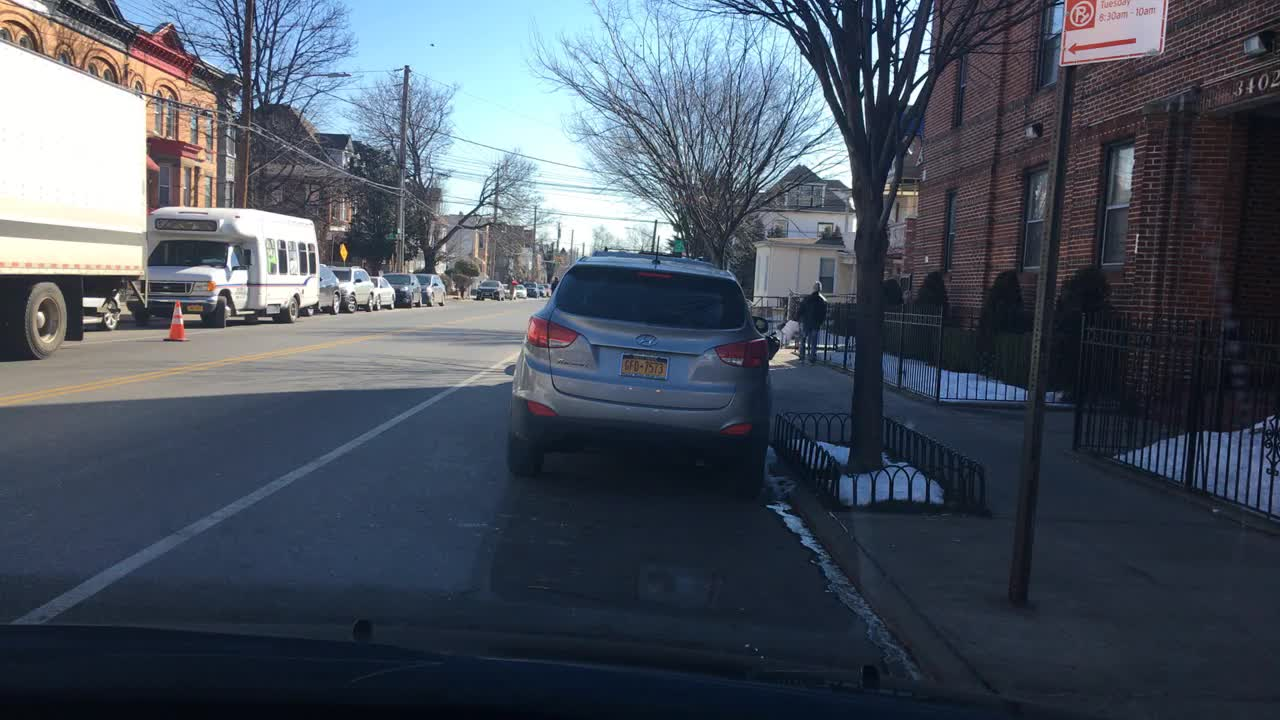car: (505, 237, 779, 480), (332, 267, 375, 311), (307, 263, 342, 316), (83, 292, 120, 330), (382, 272, 421, 305), (417, 272, 445, 305), (368, 276, 395, 309), (477, 279, 503, 298), (505, 274, 517, 299), (508, 283, 527, 298), (543, 277, 558, 294), (524, 281, 536, 297), (536, 283, 545, 297)
person: (798, 283, 826, 362)
traffic sign: (1060, 0, 1168, 66), (339, 245, 347, 259)
truck: (0, 38, 146, 358), (127, 208, 319, 325), (552, 276, 557, 295)
